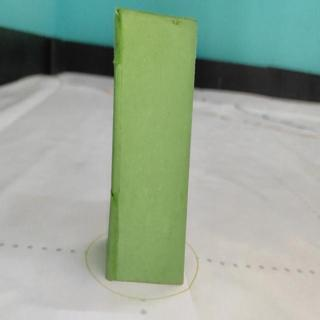greenbox: (106, 5, 199, 283)
